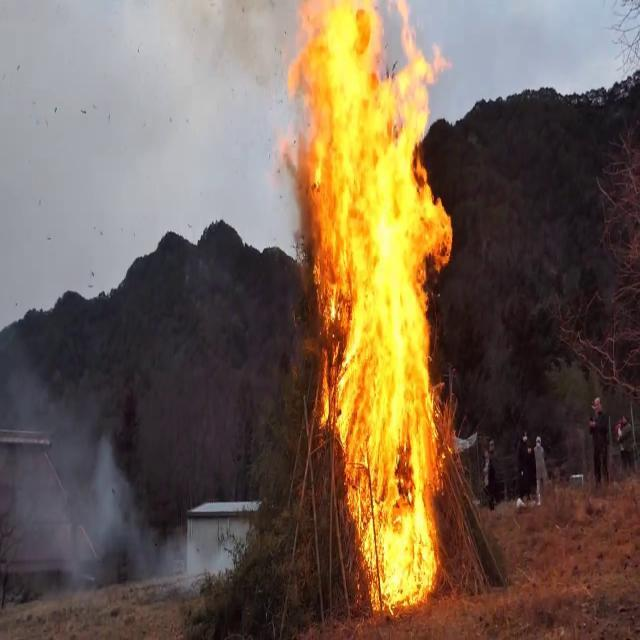Fire: (288, 0, 462, 617)
Smoke: (0, 326, 148, 599)
